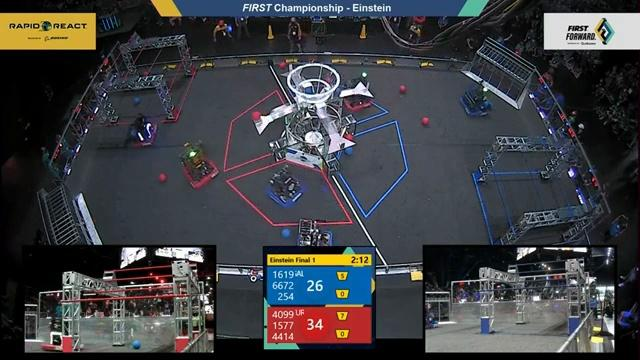robot: (170, 136, 221, 189), (258, 163, 307, 207), (286, 213, 338, 247), (115, 110, 160, 149), (339, 68, 376, 115), (455, 76, 495, 119), (41, 315, 64, 352)
